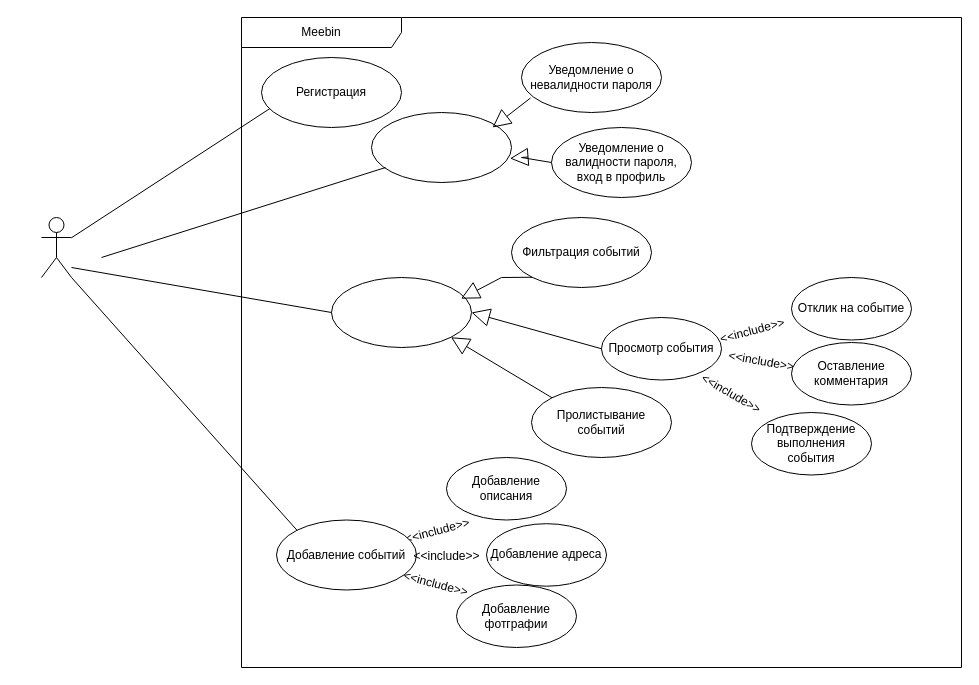
The diagram is 979 pixels wide and 685 high, and some of its shapes have lost their labels. Here are the shapes that lost their labels. From the top down, the centre of each, then its label:
At [441,147]: "Авторизация".
At [56,247]: "Пользователь".
At [401,312]: "Просмотр событий по городу".
